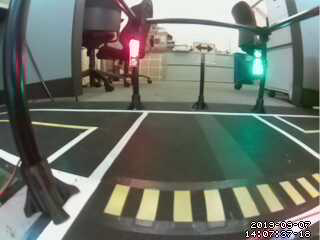Left_Right_sign: (193, 42, 217, 54)
Traffic_light_green: (251, 47, 261, 74)
Traffic_light_red: (129, 38, 140, 69)
